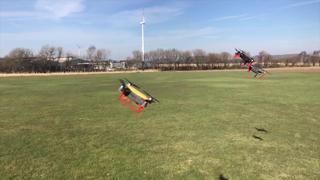UAV: (118, 78, 160, 114), (243, 63, 272, 79), (234, 48, 254, 68)
